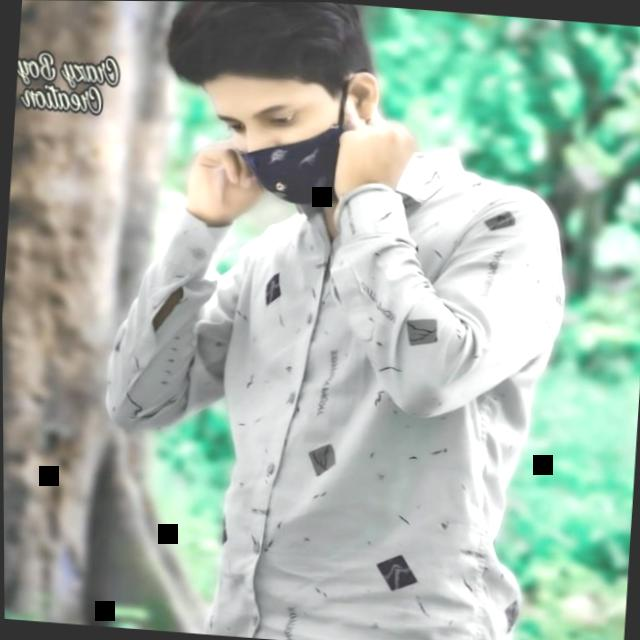Mask: (196, 71, 362, 210)
